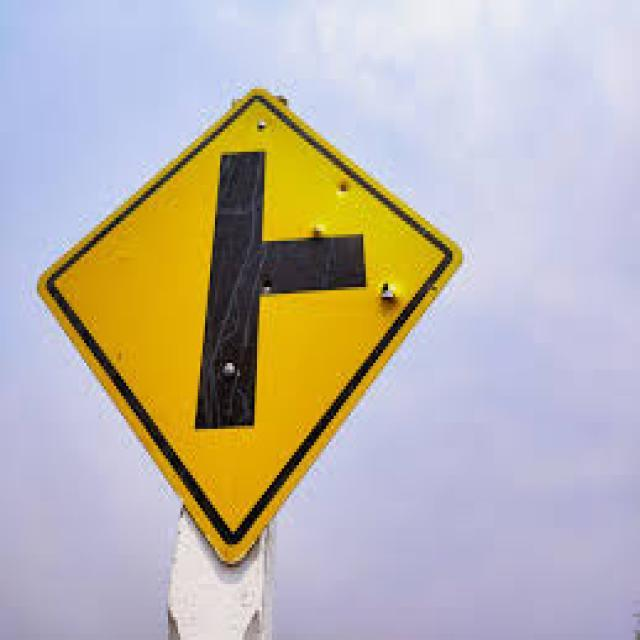side road right: (41, 88, 466, 572)
